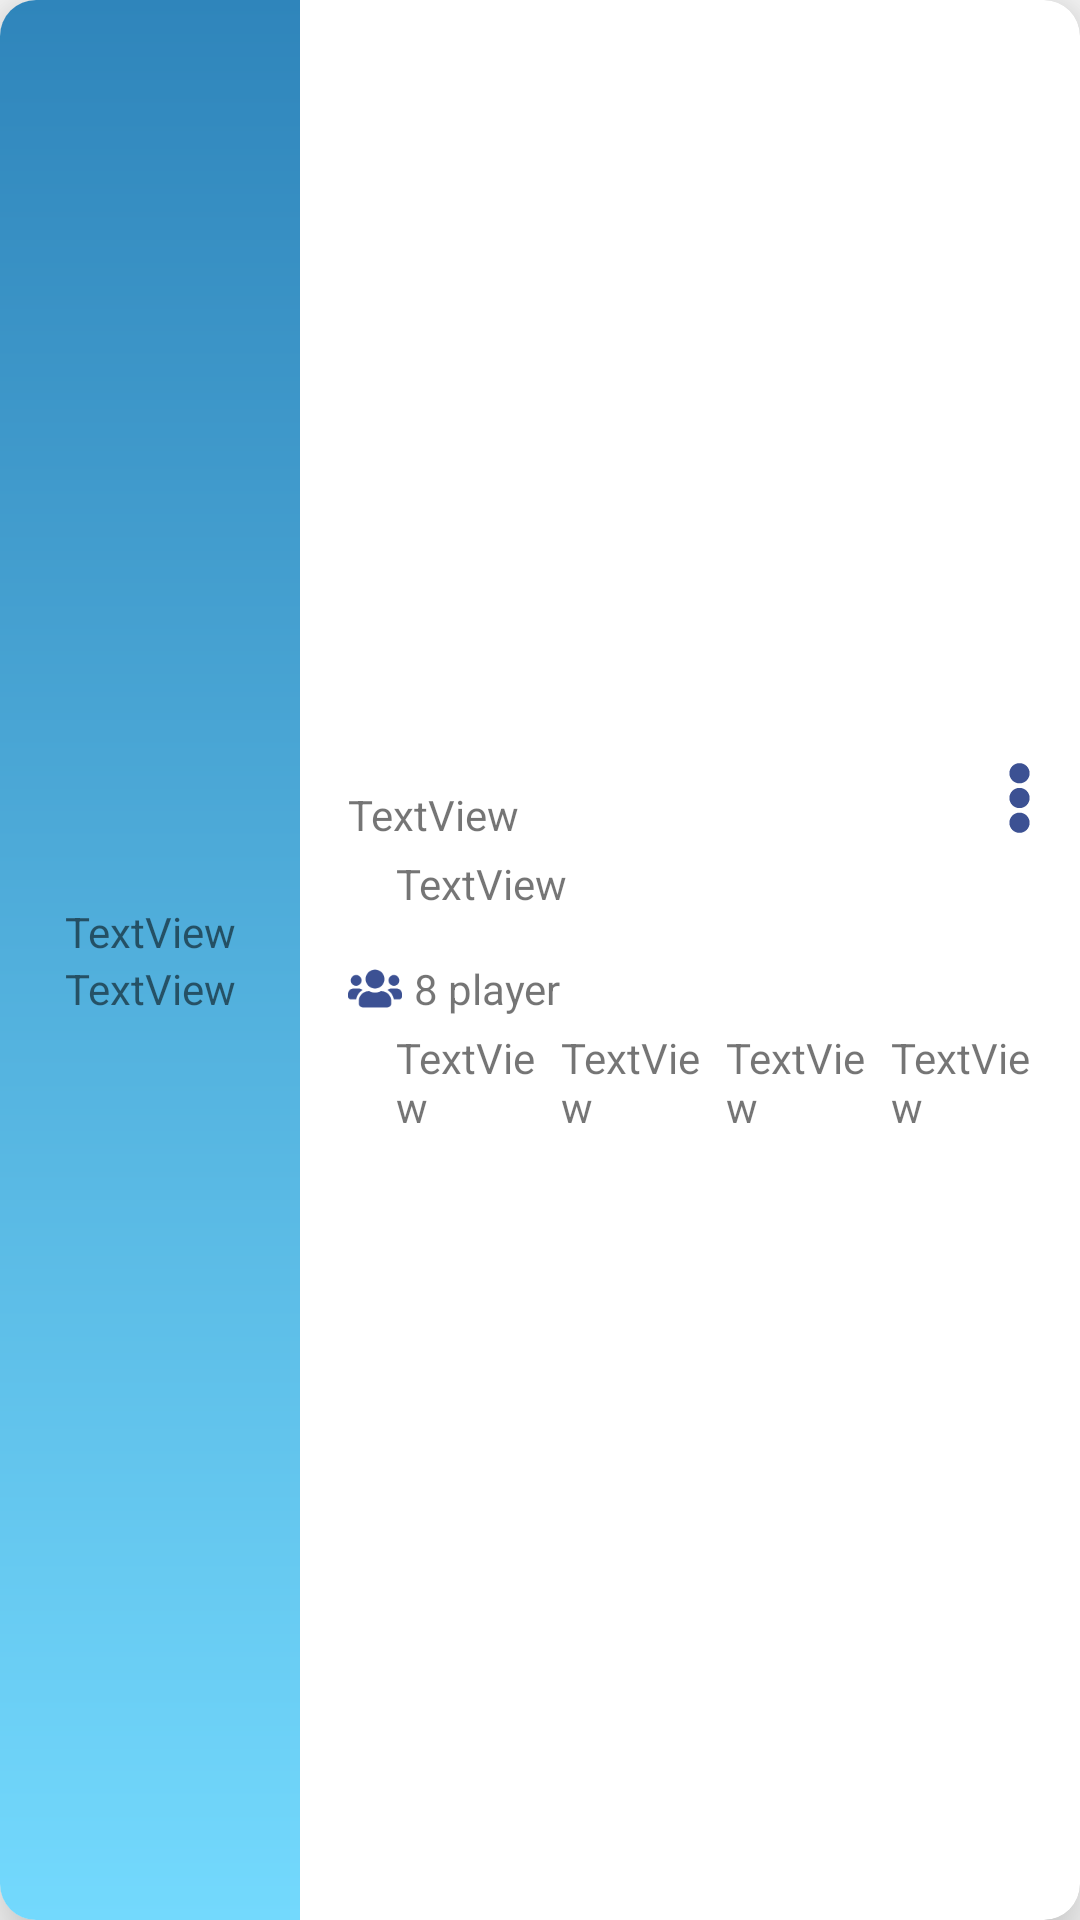

Where icons sit on this 1080*1920 app screen, as bbox(x1, y1, x2, y2):
dots menu: bbox(1009, 763, 1030, 833)
players: bbox(348, 969, 402, 1008)
